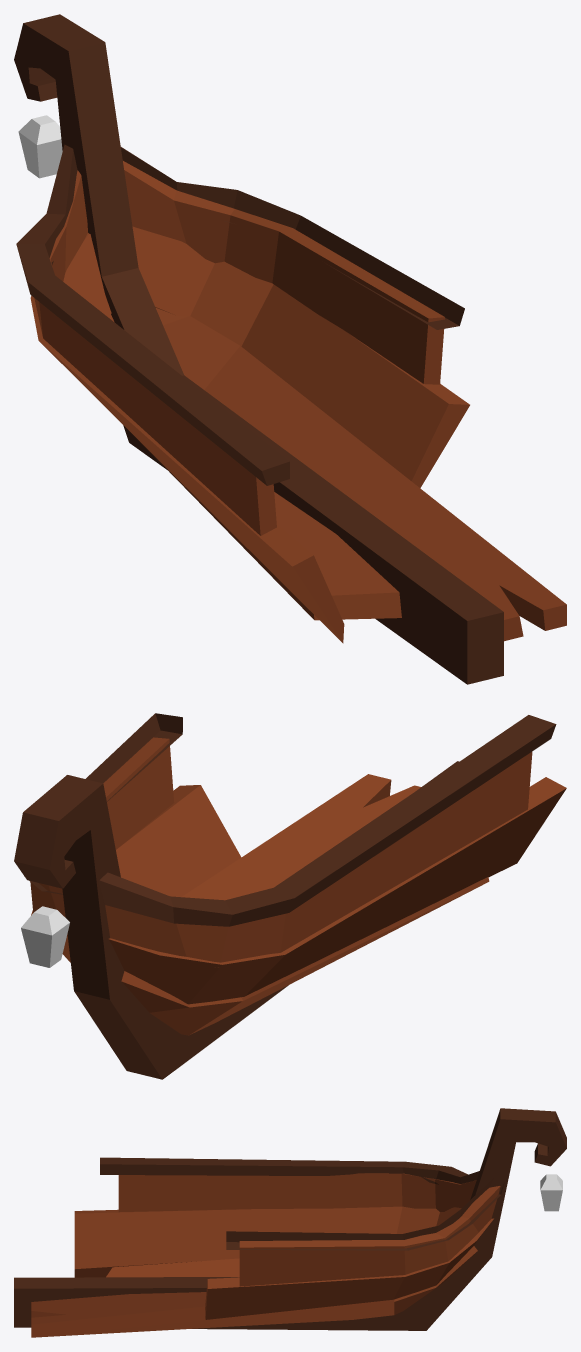
File: ship.fbx
3 views of the same model, one above another, from view 1: azimuth 30°, elevation 25°; view 2: azimuth 150°, elevation 25°; view 3: azimuth 270°, elevation 25° (orthographic). The views are drawn at different scales.
Parts seen in each view (by area): view 1: Cube.029, Cube.026, Cube.030, Cube.028, Cube.031, Cube.032; view 2: Cube.029, Cube.030, Cube.026, Cube.031, Cube.028, Cube.032; view 3: Cube.030, Cube.029, Cube.026, Cube.028, Cube.031, Cube.032.
Part boxes in pixels (x1,y1,x2,y2): Cube.029: (30,226,469,643); Cube.026: (14,14,503,684); Cube.030: (34,161,444,535); Cube.028: (109,308,566,641); Cube.031: (16,144,464,485); Cube.032: (18,115,62,178); Cube.029: (31,777,566,1004); Cube.030: (30,737,532,967); Cube.026: (14,761,458,1079); Cube.031: (24,713,556,926); Cube.028: (121,774,489,1035); Cube.032: (21,906,69,967); Cube.030: (118,1173,500,1286); Cube.029: (74,1206,493,1319); Cube.026: (14,1108,566,1330); Cube.028: (31,1246,477,1337); Cube.031: (100,1157,504,1250); Cube.032: (540,1174,562,1211).
Size of the model in its own units: 118 by 127 by 301.
